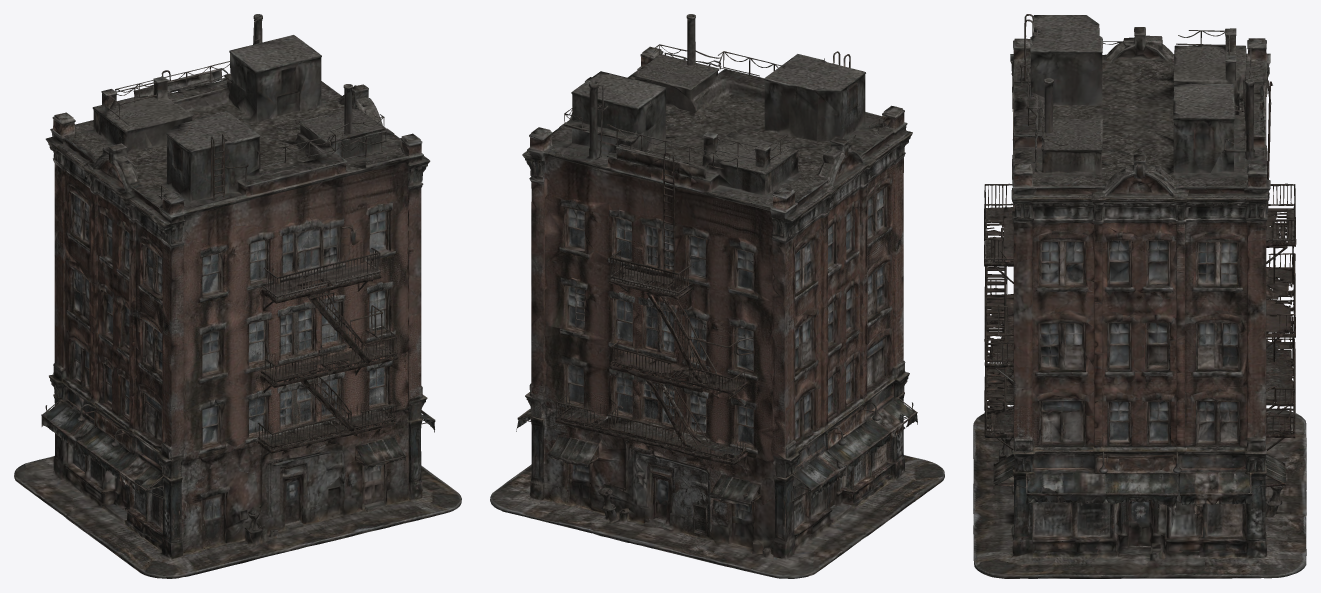
Rendered from corner_store.glb.
3 views of the same model, side by side, from view 1: azimuth 30°, elevation 25°; view 2: azimuth 150°, elevation 25°; view 3: azimuth 270°, elevation 25° (orthographic). The views are drawn at different scales.
Parts seen in each view (by area): view 1: corner_store; view 2: corner_store; view 3: corner_store.
Part boxes in pixels (x1=…): corner_store: x1=14, y1=14, x2=461, y2=578; corner_store: x1=490, y1=14, x2=944, y2=578; corner_store: x1=973, y1=14, x2=1306, y2=578.
Size of the model in its own units: 1.51 by 1.9 by 1.27.
Materials: 1 (1 with a texture image).
